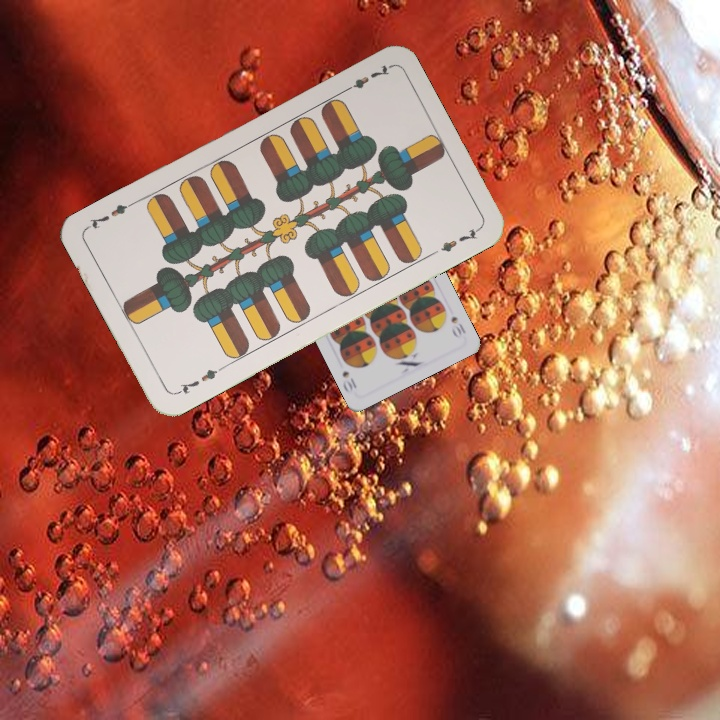E7: (338, 60, 393, 96), (172, 362, 226, 398)
S10: (447, 312, 469, 341)
